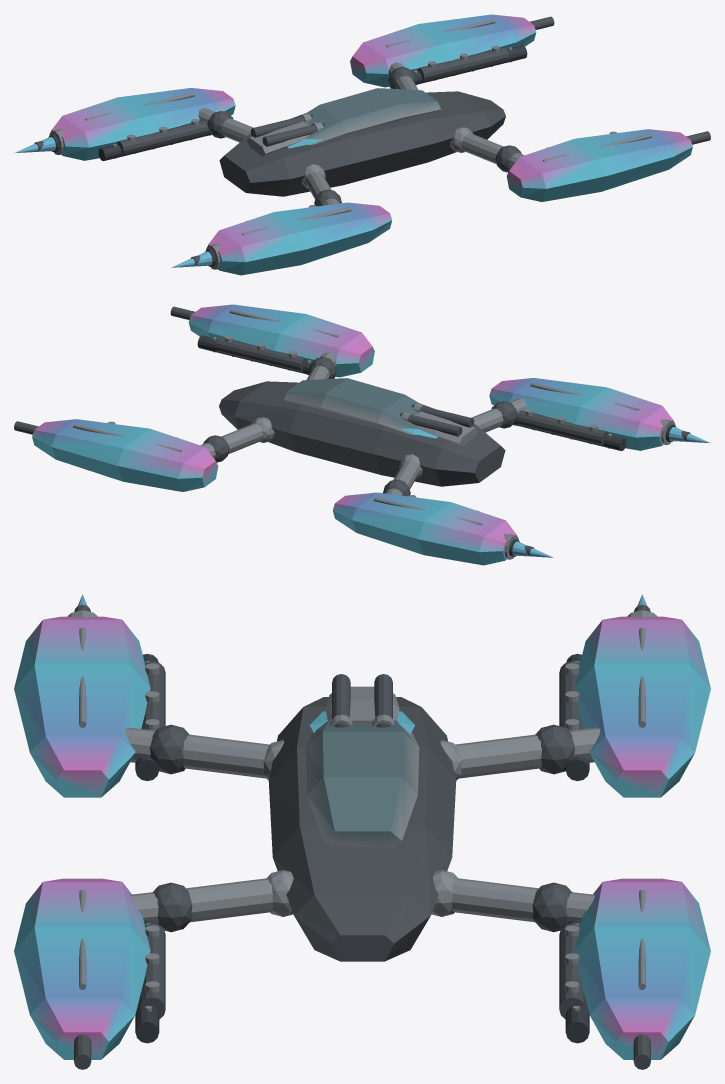
The model's file is x5_neon_ground_flight.glb.
3 views of the same model, one above another, from view 1: azimuth 30°, elevation 25°; view 2: azimuth 150°, elevation 25°; view 3: azimuth 270°, elevation 25° (orthographic). The views are drawn at different scales.
Visible parts, largest first — view 1: pod_armor_10, center_hull_0, cabin_base_1, pod_mechanics_16, mechanical_arms_8, outer_joint_9, pod_rail_11, missile_body_3, inner_drive_rail_18, launcher_saddle_2, engine_flame_15, forward_gun_12 (+1 smaller); view 2: pod_armor_10, center_hull_0, cabin_base_1, pod_mechanics_16, mechanical_arms_8, outer_joint_9, pod_rail_11, missile_body_3, inner_drive_rail_18, launcher_saddle_2, engine_flame_15, forward_gun_12 (+1 smaller); view 3: pod_armor_10, center_hull_0, mechanical_arms_8, cabin_base_1, outer_joint_9, pod_mechanics_16, inner_drive_rail_18, inner_joint_7, pod_rail_11, mechanical_crossbeam_17, missile_body_3, forward_gun_12 (+1 smaller).
Part boxes in pixels (bbox=[...]): pod_armor_10: bbox=[49, 14, 692, 275]; center_hull_0: bbox=[219, 91, 505, 196]; cabin_base_1: bbox=[305, 88, 440, 145]; pod_mechanics_16: bbox=[117, 47, 509, 155]; mechanical_arms_8: bbox=[198, 62, 524, 205]; outer_joint_9: bbox=[207, 67, 521, 206]; pod_rail_11: bbox=[85, 19, 651, 235]; missile_body_3: bbox=[250, 115, 323, 146]; inner_drive_rail_18: bbox=[98, 45, 527, 160]; launcher_saddle_2: bbox=[247, 121, 309, 156]; engine_flame_15: bbox=[14, 136, 212, 267]; forward_gun_12: bbox=[34, 16, 710, 265]; pod_armor_10: bbox=[32, 304, 675, 565]; center_hull_0: bbox=[219, 381, 505, 486]; cabin_base_1: bbox=[284, 378, 420, 435]; pod_mechanics_16: bbox=[215, 337, 607, 445]; mechanical_arms_8: bbox=[200, 352, 526, 495]; outer_joint_9: bbox=[203, 357, 517, 496]; pod_rail_11: bbox=[73, 309, 639, 525]; missile_body_3: bbox=[401, 405, 474, 436]; inner_drive_rail_18: bbox=[197, 335, 626, 450]; launcher_saddle_2: bbox=[415, 411, 477, 446]; engine_flame_15: bbox=[512, 426, 710, 557]; forward_gun_12: bbox=[14, 306, 690, 555]; pod_armor_10: bbox=[14, 616, 710, 1059]; center_hull_0: bbox=[268, 697, 456, 961]; mechanical_arms_8: bbox=[125, 727, 600, 923]; cabin_base_1: bbox=[305, 720, 419, 847]; outer_joint_9: bbox=[150, 724, 574, 932]; pod_mechanics_16: bbox=[140, 661, 584, 1019]; inner_drive_rail_18: bbox=[135, 653, 589, 1043]; inner_joint_7: bbox=[263, 740, 461, 916]; pod_rail_11: bbox=[79, 627, 645, 989]; mechanical_crossbeam_17: bbox=[145, 663, 579, 992]; missile_body_3: bbox=[332, 674, 392, 726]; forward_gun_12: bbox=[74, 604, 650, 1069].
Size of the model in its own units: 8.41 by 0.9 by 5.28.
